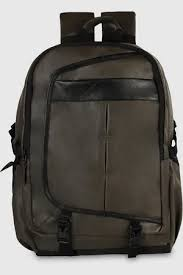backpack: (0, 10, 182, 257)
